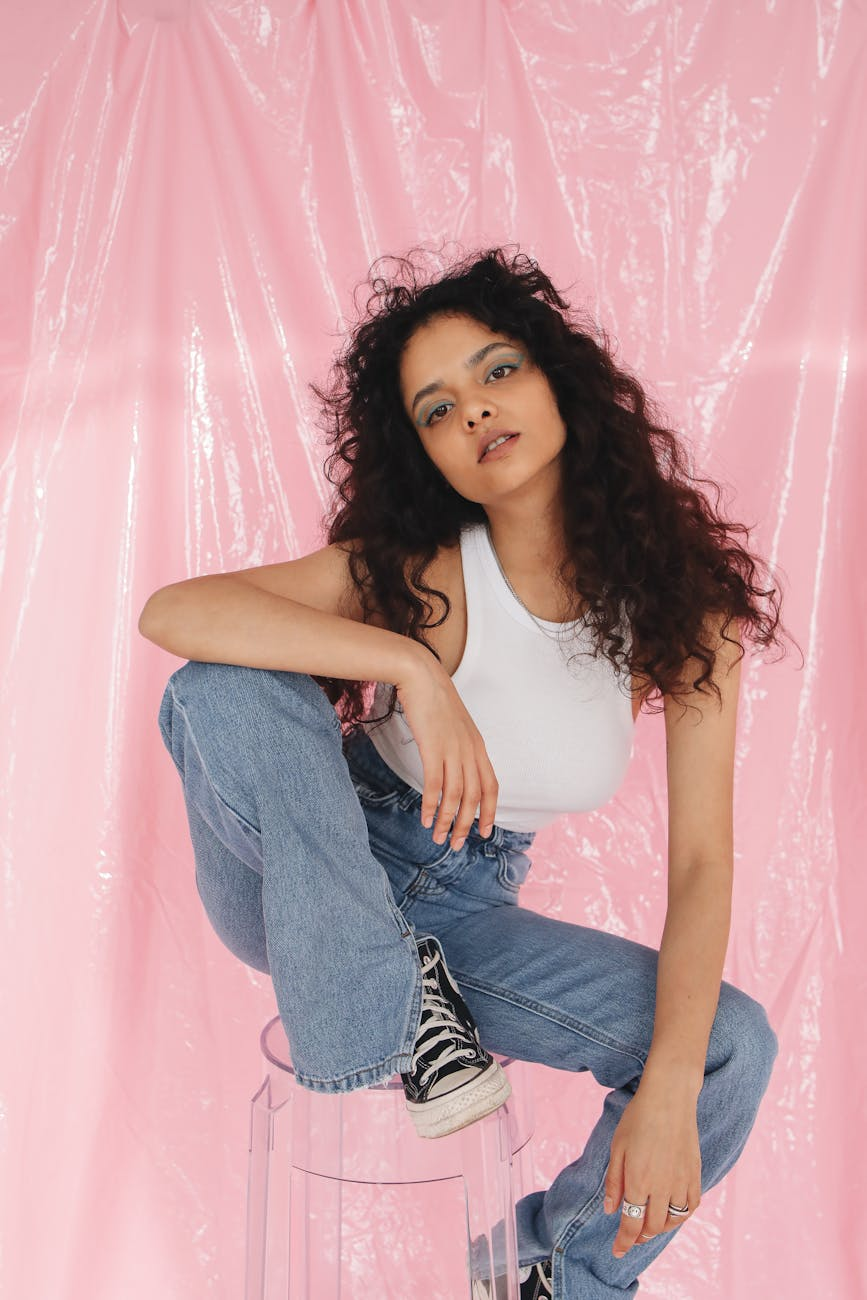sleeveless_top: (364, 512, 674, 818)
